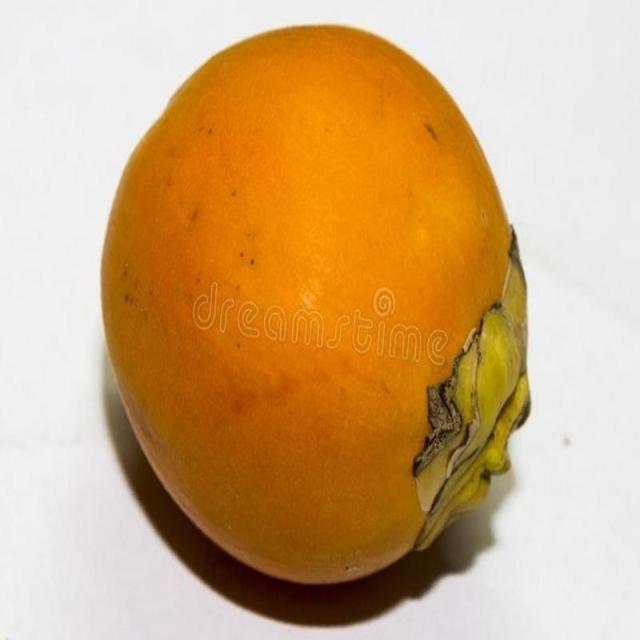good: (99, 25, 532, 589)
